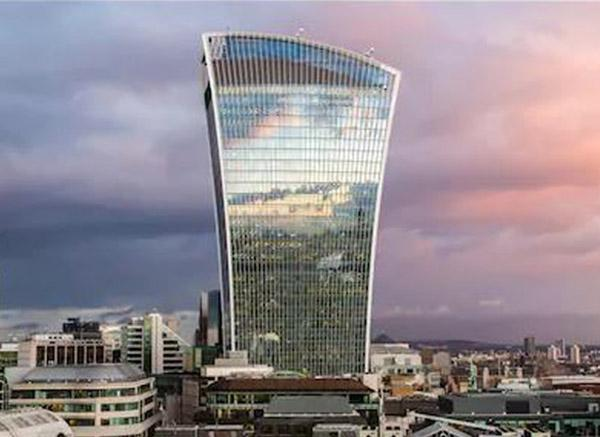Walkie talkie: (187, 18, 420, 373)
